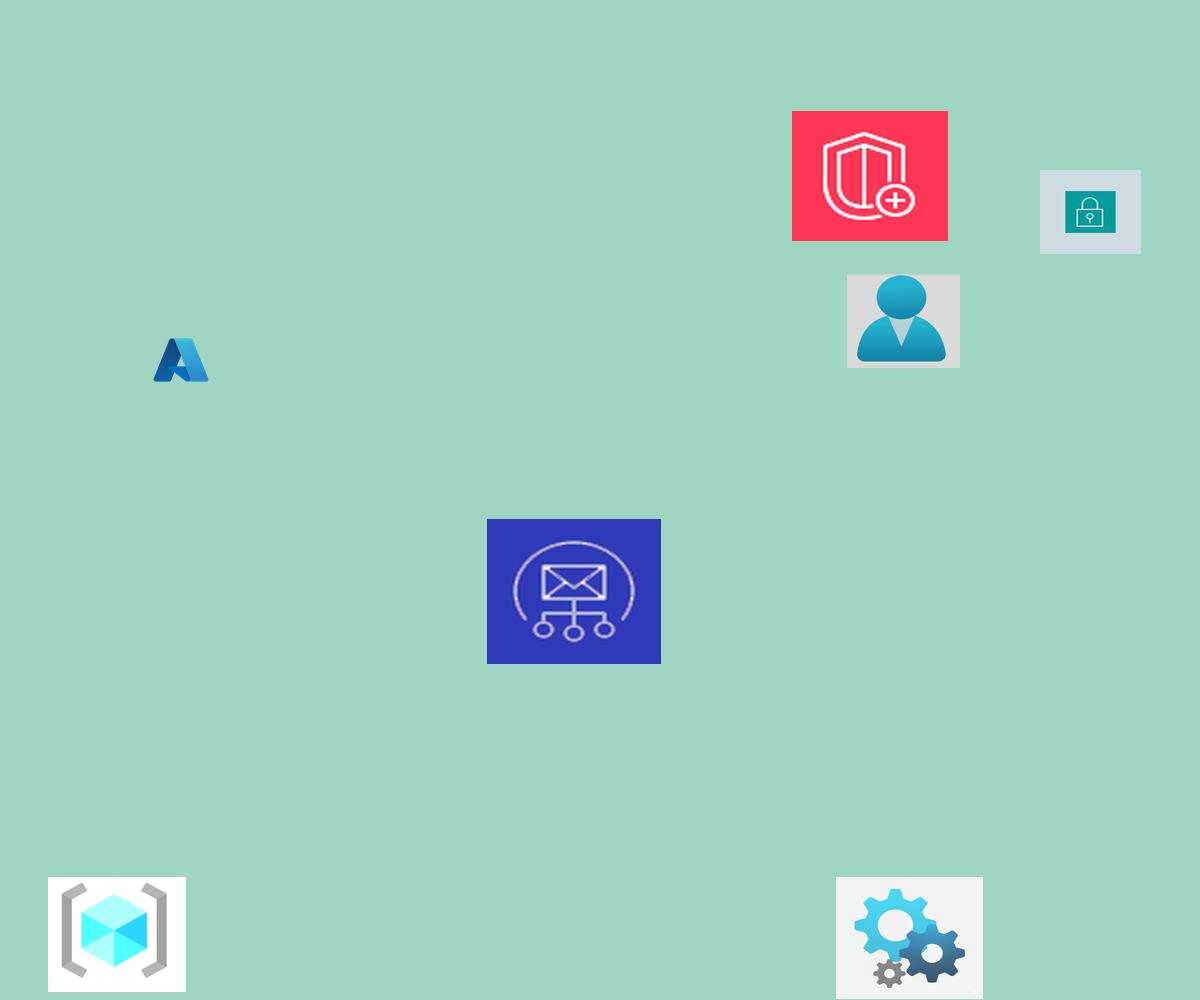AWS-Private-subnet: (1040, 170, 1141, 254)
AWS-Shield: (792, 111, 948, 241)
AWS-Simple-Email-Service: (487, 519, 661, 664)
Azure_api: (836, 877, 983, 999)
Azure_resource_group: (48, 877, 186, 992)
Azure_services: (151, 335, 211, 385)
Azure_users: (847, 274, 960, 368)
